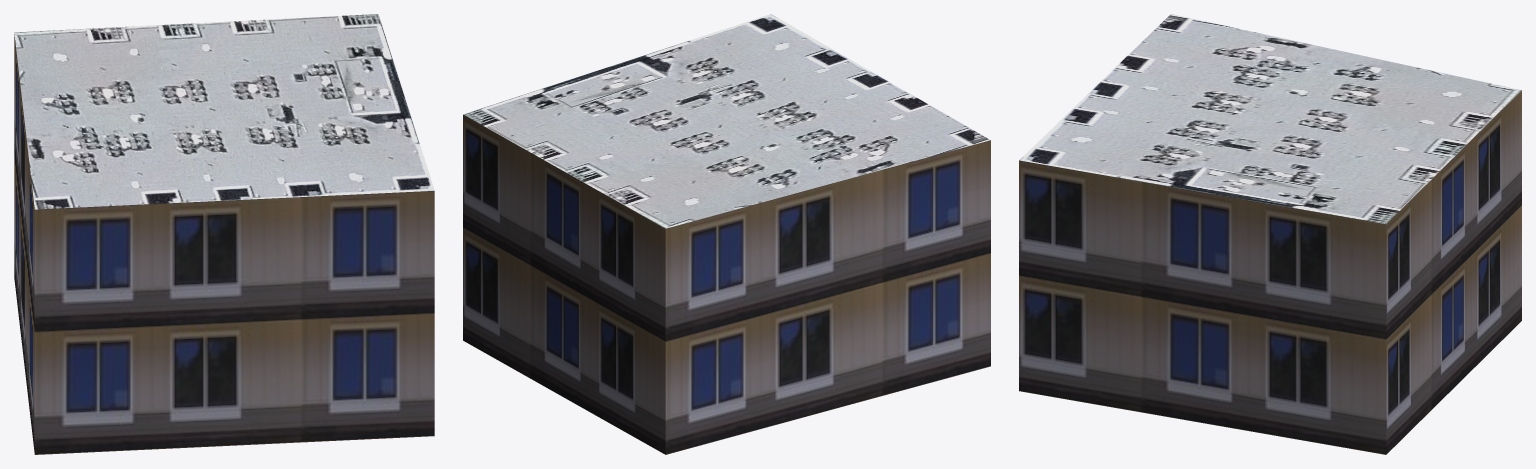
Rendered from ResTex__2242.fbx.
The picture shows the model from 3 angles, left to right: view 1: azimuth 30°, elevation 25°; view 2: azimuth 150°, elevation 25°; view 3: azimuth 270°, elevation 25°; orthographic projection. The views are drawn at different scales.
Parts seen in each view (by area): view 1: CityEngineMaterial_5_m, CityEngineMaterial_4_m; view 2: CityEngineMaterial_5_m, CityEngineMaterial_4_m; view 3: CityEngineMaterial_5_m, CityEngineMaterial_4_m.
Boxes of the visible parts, box(x1,y1,x2,y2) form: CityEngineMaterial_5_m: box(14, 34, 434, 454); CityEngineMaterial_4_m: box(14, 14, 434, 209); CityEngineMaterial_5_m: box(463, 114, 990, 454); CityEngineMaterial_4_m: box(463, 14, 990, 228); CityEngineMaterial_5_m: box(1019, 90, 1521, 454); CityEngineMaterial_4_m: box(1019, 14, 1521, 223).
Bounding box in the file's own units: 11.73 × 6 × 11.85.
2 materials, 2 textured.
